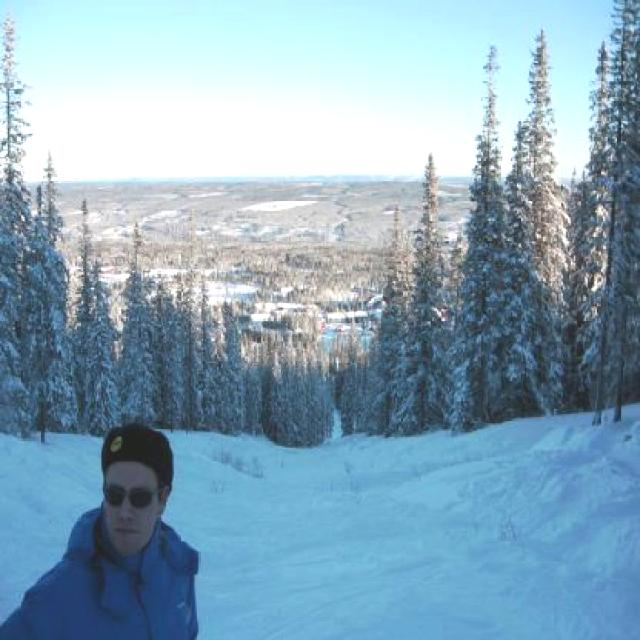face_nomask: (105, 480, 152, 542)
glasses: (101, 487, 162, 507)
head_nohelmet: (98, 413, 179, 479)
person: (0, 417, 229, 640)
